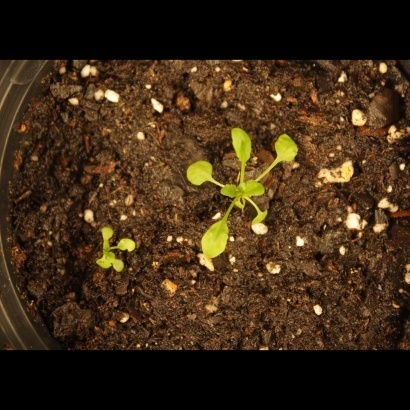leaf: (223, 124, 260, 174), (201, 216, 231, 265), (182, 153, 217, 192), (273, 130, 303, 165), (251, 207, 276, 232), (117, 231, 140, 254), (97, 222, 120, 245), (111, 253, 134, 276), (89, 251, 112, 274), (243, 178, 266, 201), (221, 180, 244, 203)
